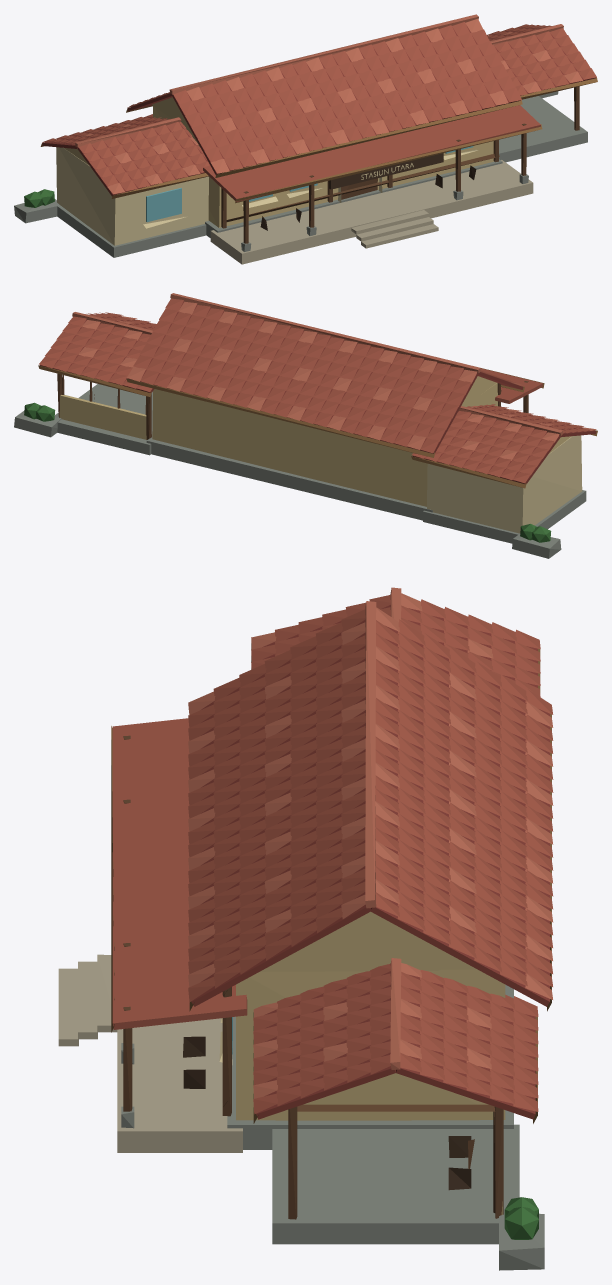
The model's file is station-utara-low.glb.
3 views of the same model, one above another, from view 1: azimuth 30°, elevation 25°; view 2: azimuth 150°, elevation 25°; view 3: azimuth 270°, elevation 25° (orthographic). The views are drawn at different scales.
Visible parts, largest first — view 1: GEO-station-utara.001; view 2: GEO-station-utara.001; view 3: GEO-station-utara.001.
Part boxes in pixels (x1,y1,x2,y2): GEO-station-utara.001: (14, 14, 597, 264); GEO-station-utara.001: (14, 293, 597, 558); GEO-station-utara.001: (58, 587, 553, 1270).
Size of the model in its own units: 26.9 by 6.27 by 10.8.
